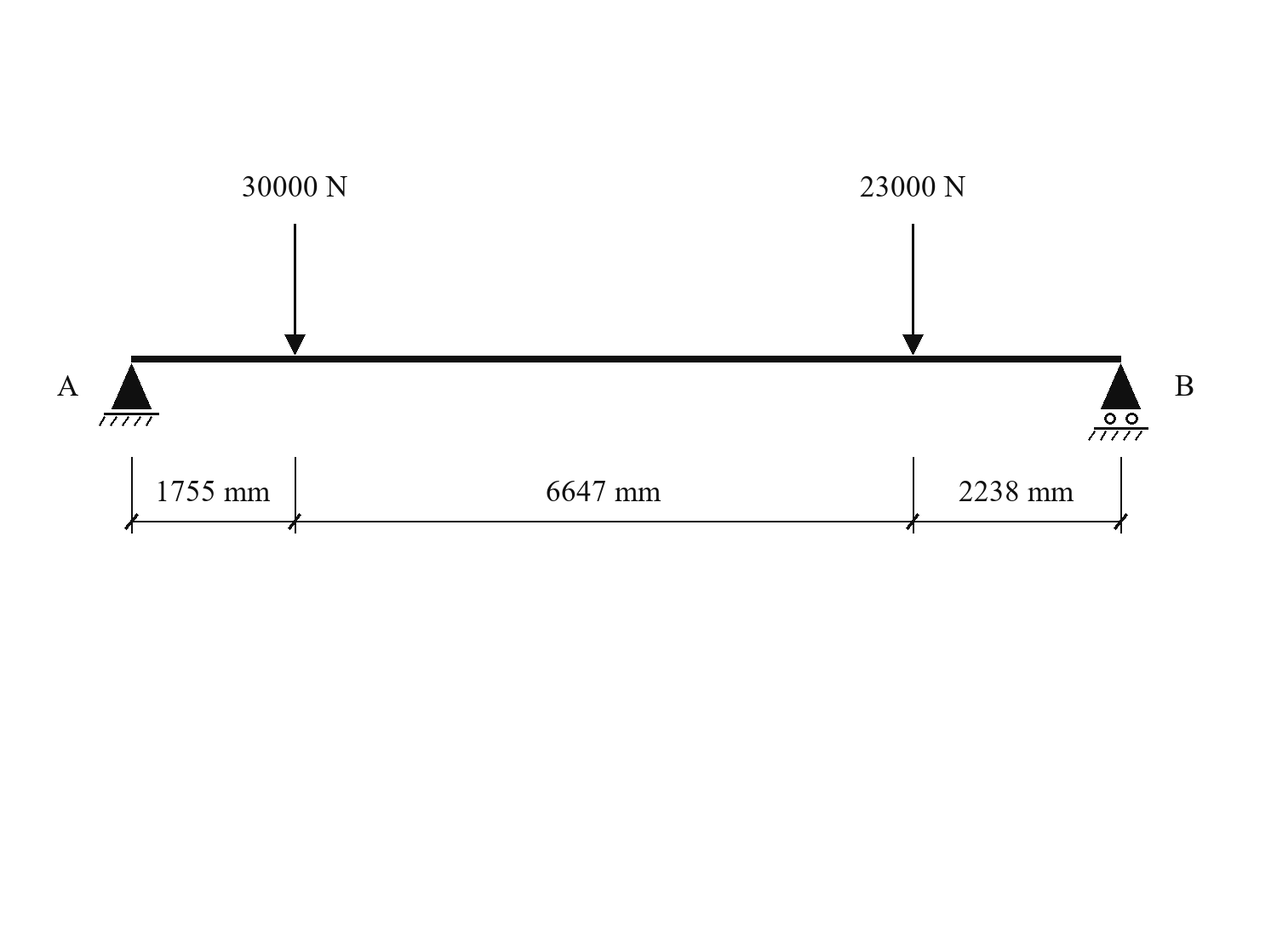pin_support: (99, 363, 159, 426)
point_load: (284, 224, 306, 355), (902, 224, 924, 355)
roller_support: (1088, 363, 1148, 441)
